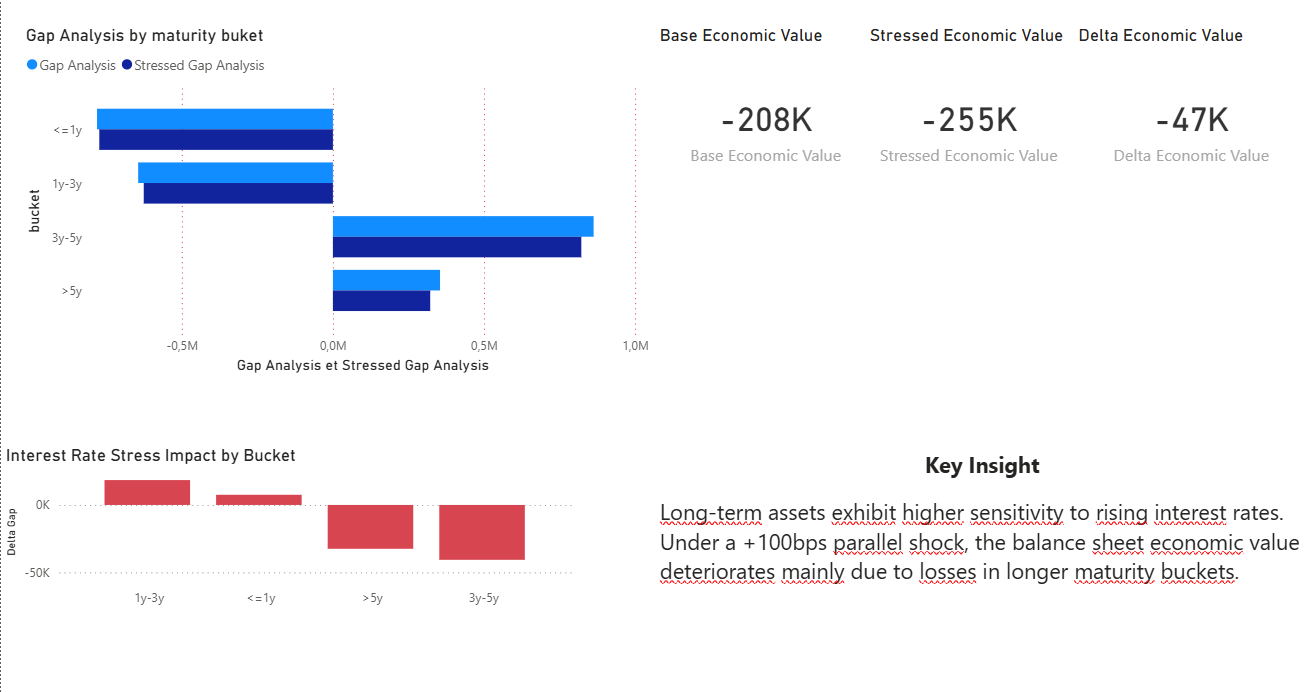

The dashboard page shown, as its layout file describes it:
{"tool":"powerbi","page":{"name":"Page 1","canvas":[1280,720],"ordinal":0},"visuals":[{"type":"clusteredBarChart","title":"Gap Analysis by maturity buket","fields":{"Category":["gap_analysis.bucket"],"Y":["Sum(gap_analysis.base_gap)","Sum(gap_analysis.stressed_gap)"]},"box":[19.6,30.6,620,346.1],"z":0},{"type":"columnChart","title":"Interest Rate Stress Impact by Bucket","fields":{"Category":["gap_analysis.bucket"],"Y":["Sum(gap_analysis.delta_gap)"]},"box":[0,441.4,564.9,168.8],"z":1000},{"type":"advanceCardE03760C5AB684758B56AA29F9E6C257B","title":"Base Economic Value","fields":{"mainMeasure":["Sum(stress_results.base_value)"]},"box":[639.5,30.6,217.7,189.5],"z":2001},{"type":"advanceCardE03760C5AB684758B56AA29F9E6C257B","title":"Stressed Economic Value","fields":{"mainMeasure":["Sum(stress_results.stressed_value)"]},"box":[845,30.6,204.2,189.5],"z":2002},{"type":"advanceCardE03760C5AB684758B56AA29F9E6C257B","title":"Delta Economic Value","fields":{"mainMeasure":["Sum(stress_results.delta)"]},"box":[1049.2,30.6,231.1,189.5],"z":2003},{"type":"textbox","box":[639.5,441.4,640.8,168.8],"z":2004}]}

Visuals, with their boxes on the page's 1280x720 design canvas (x1, y1, x2, y2). These are canvas units, not pixel positions in the 1307x692 screenshot, which may show the page scaled, cropped or inside an application window:
"Gap Analysis by maturity buket" clusteredBarChart: bbox=[20, 31, 640, 377]
"Interest Rate Stress Impact by Bucket" columnChart: bbox=[0, 441, 565, 610]
"Base Economic Value" advanceCardE03760C5AB684758B56AA29F9E6C257B: bbox=[640, 31, 857, 220]
"Stressed Economic Value" advanceCardE03760C5AB684758B56AA29F9E6C257B: bbox=[845, 31, 1049, 220]
"Delta Economic Value" advanceCardE03760C5AB684758B56AA29F9E6C257B: bbox=[1049, 31, 1280, 220]
textbox: bbox=[640, 441, 1280, 610]
